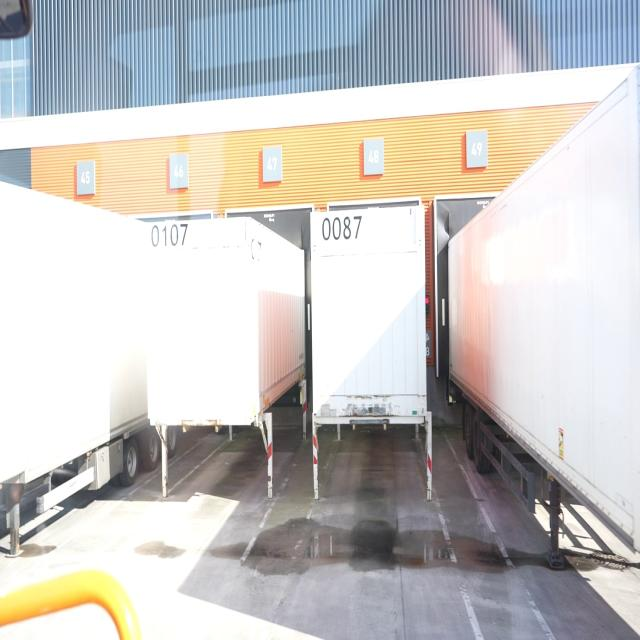Code: (317, 209, 368, 245), (150, 221, 193, 254)
